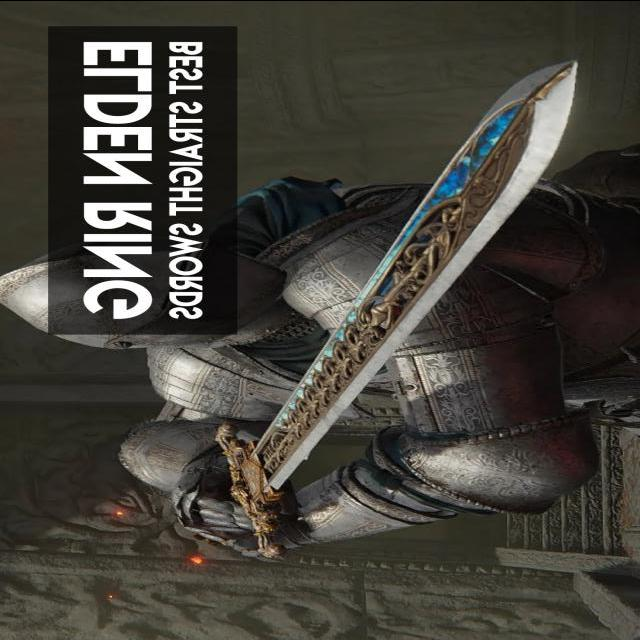katana: (212, 58, 583, 559)
